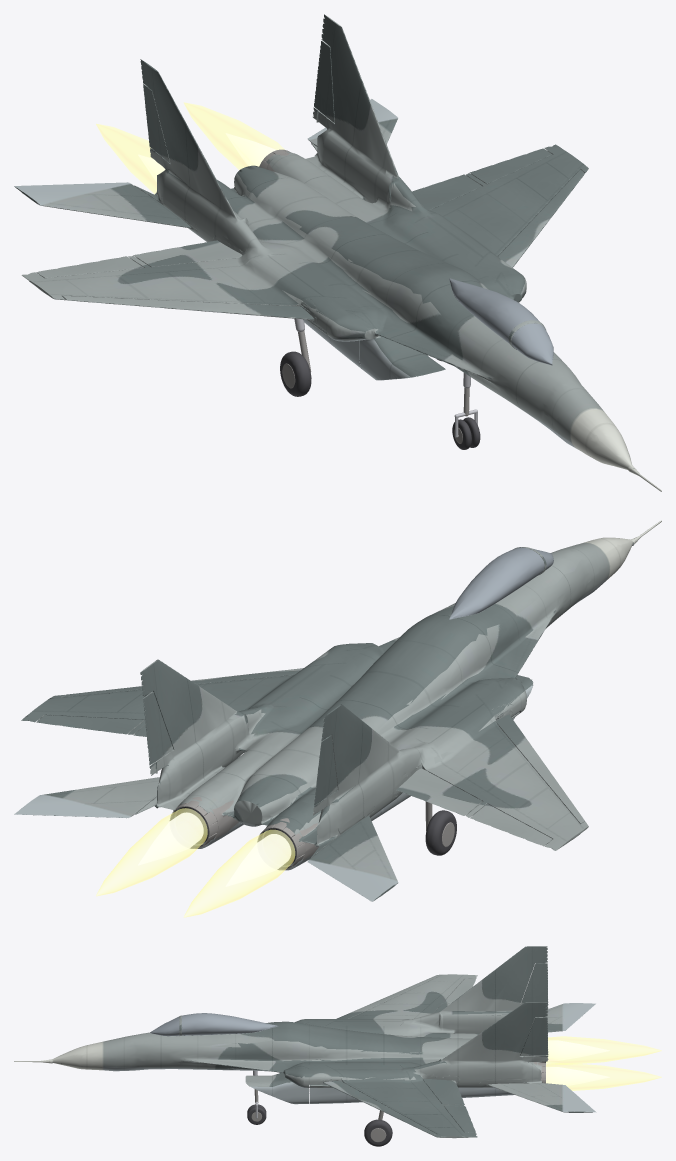
File: mig29a.glb
The picture shows the model from 3 angles, top to bottom: view 1: azimuth 30°, elevation 25°; view 2: azimuth 150°, elevation 25°; view 3: azimuth 270°, elevation 25°; orthographic projection. The views are drawn at different scales.
Visible parts, largest first — view 1: airframe, fsim:elevator+aileron:-0.4@-35,15, fsim:lef@-2,20 (×2), fsim:afterburner:0, fsim:flaps (×2), fsim:aileron (×2), fsim:rudder (×2), fsim:afterburner:1, fsim:wheel:2:0.42, fsim:wheel:0:0.285, fsim:elevator+aileron:0.4@-35,15; view 2: airframe, fsim:afterburner:1, fsim:afterburner:0, fsim:elevator+aileron:-0.4@-35,15, fsim:elevator+aileron:0.4@-35,15, fsim:aileron (×2), fsim:lef@-2,20 (×2), fsim:rudder (×2), fsim:flaps, fsim:wheel:2:0.42; view 3: airframe, fsim:afterburner:1, fsim:afterburner:0, fsim:elevator+aileron:0.4@-35,15, fsim:rudder (×2), fsim:lef@-2,20 (×2), fsim:elevator+aileron:-0.4@-35,15, fsim:aileron (×2), fsim:flaps, fsim:gear:90:0:0.2, fsim:wheel:1:0.42, fsim:wheel:0:0.285.
Part boxes in pixels (x1=…): airframe: x1=21, y1=14, x2=661, y2=491; fsim:elevator+aileron:-0.4@-35,15: x1=14, y1=182, x2=191, y2=228; fsim:lef@-2,20 (×2): x1=62, y1=169, x2=584, y2=320; fsim:afterburner:0: x1=184, y1=102, x2=284, y2=169; fsim:flaps (×2): x1=133, y1=174, x2=482, y2=267; fsim:aileron (×2): x1=36, y1=148, x2=552, y2=278; fsim:rudder (×2): x1=143, y1=41, x2=334, y2=163; fsim:afterburner:1: x1=96, y1=124, x2=165, y2=194; fsim:wheel:2:0.42: x1=280, y1=351, x2=311, y2=396; fsim:wheel:0:0.285: x1=452, y1=417, x2=480, y2=449; fsim:elevator+aileron:0.4@-35,15: x1=307, y1=99, x2=397, y2=146; airframe: x1=21, y1=520, x2=661, y2=870; fsim:afterburner:1: x1=184, y1=829, x2=295, y2=917; fsim:afterburner:0: x1=96, y1=808, x2=207, y2=896; fsim:elevator+aileron:-0.4@-35,15: x1=307, y1=816, x2=398, y2=901; fsim:elevator+aileron:0.4@-35,15: x1=14, y1=777, x2=159, y2=818; fsim:aileron (×2): x1=36, y1=715, x2=552, y2=846; fsim:lef@-2,20 (×2): x1=62, y1=668, x2=584, y2=824; fsim:rudder (×2): x1=143, y1=691, x2=337, y2=805; fsim:flaps: x1=396, y1=768, x2=482, y2=815; fsim:wheel:2:0.42: x1=425, y1=810, x2=456, y2=855; airframe: x1=14, y1=946, x2=559, y2=1138; fsim:afterburner:1: x1=546, y1=1036, x2=661, y2=1064; fsim:afterburner:0: x1=546, y1=1062, x2=661, y2=1090; fsim:elevator+aileron:0.4@-35,15: x1=488, y1=1083, x2=595, y2=1112; fsim:rudder (×2): x1=520, y1=963, x2=548, y2=1055; fsim:lef@-2,20 (×2): x1=324, y1=977, x2=436, y2=1134; fsim:elevator+aileron:-0.4@-35,15: x1=535, y1=1003, x2=595, y2=1031; fsim:aileron (×2): x1=444, y1=978, x2=475, y2=1132; fsim:flaps: x1=423, y1=1079, x2=464, y2=1104; fsim:gear:90:0:0.2: x1=310, y1=1080, x2=362, y2=1103; fsim:wheel:1:0.42: x1=364, y1=1119, x2=392, y2=1146; fsim:wheel:0:0.285: x1=247, y1=1104, x2=266, y2=1124.
Bounding box in the file's own units: 11.36 × 4.89 × 19.19.
8 materials, 1 textured.
